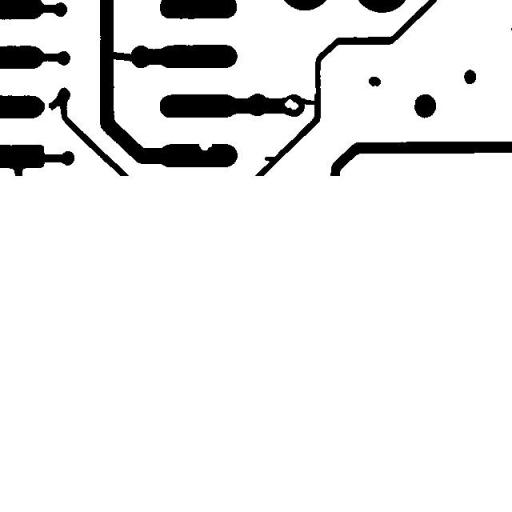copper: (361, 68, 388, 94)
mousebite: (191, 135, 219, 158)
open: (36, 94, 58, 120)
pin-hole: (276, 91, 306, 117)
short: (102, 44, 142, 69), (294, 90, 323, 112)
spur: (257, 149, 282, 169)
